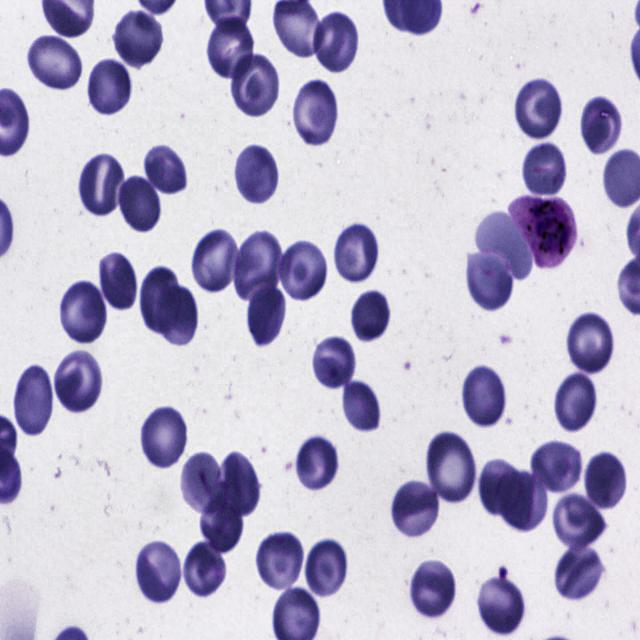red blood cell: (474, 211, 533, 281), (232, 230, 284, 300), (23, 33, 85, 91), (427, 431, 476, 503), (552, 490, 608, 552), (190, 224, 238, 296), (292, 78, 341, 148), (564, 309, 616, 374), (477, 571, 528, 636), (514, 74, 564, 140), (112, 7, 166, 68), (256, 529, 306, 594), (53, 349, 104, 411), (312, 10, 362, 73), (135, 538, 182, 605), (553, 542, 606, 601), (229, 54, 280, 115), (498, 470, 549, 531), (408, 558, 458, 620), (464, 250, 514, 312), (214, 450, 258, 520), (140, 405, 187, 470), (232, 143, 282, 204), (138, 267, 181, 337), (13, 365, 54, 438), (461, 363, 507, 428), (279, 239, 326, 302), (180, 449, 224, 516), (60, 281, 106, 345), (207, 15, 255, 76), (519, 140, 569, 198), (303, 538, 349, 600), (333, 223, 381, 282), (80, 155, 126, 216), (554, 370, 600, 431), (392, 479, 439, 538), (580, 93, 624, 156), (530, 442, 584, 493), (85, 58, 132, 116), (582, 450, 628, 508), (157, 284, 200, 346), (480, 457, 523, 519), (119, 174, 162, 235), (184, 541, 226, 600), (294, 435, 338, 491), (247, 282, 286, 345), (99, 249, 137, 313), (200, 495, 242, 551), (314, 336, 358, 389), (144, 142, 188, 195), (339, 378, 381, 432), (351, 290, 392, 344)
schizont: (507, 196, 578, 268)
